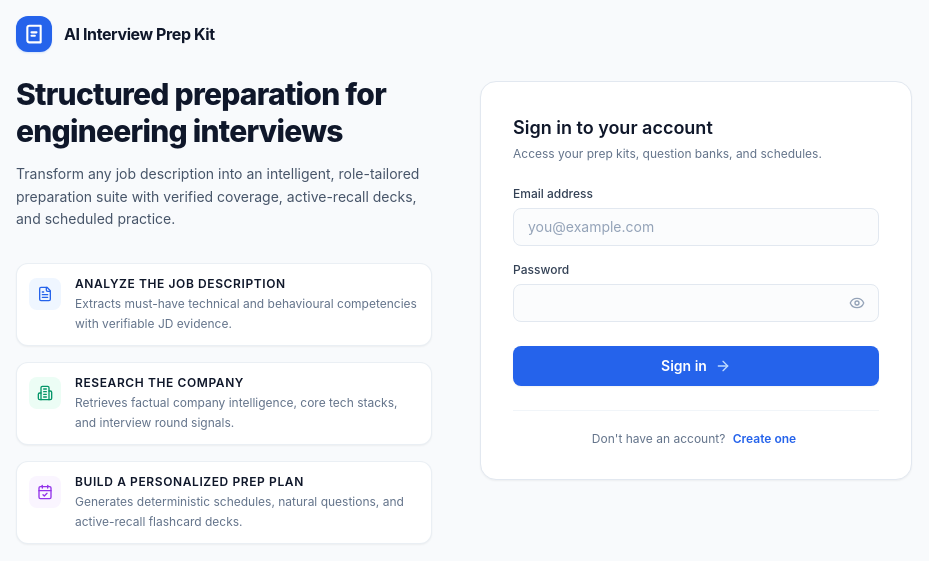
Test: Frontend: Authentication › 2. shows register form when switching modes
Click the button "Create one" at (764, 438), box [729,430,800,446]
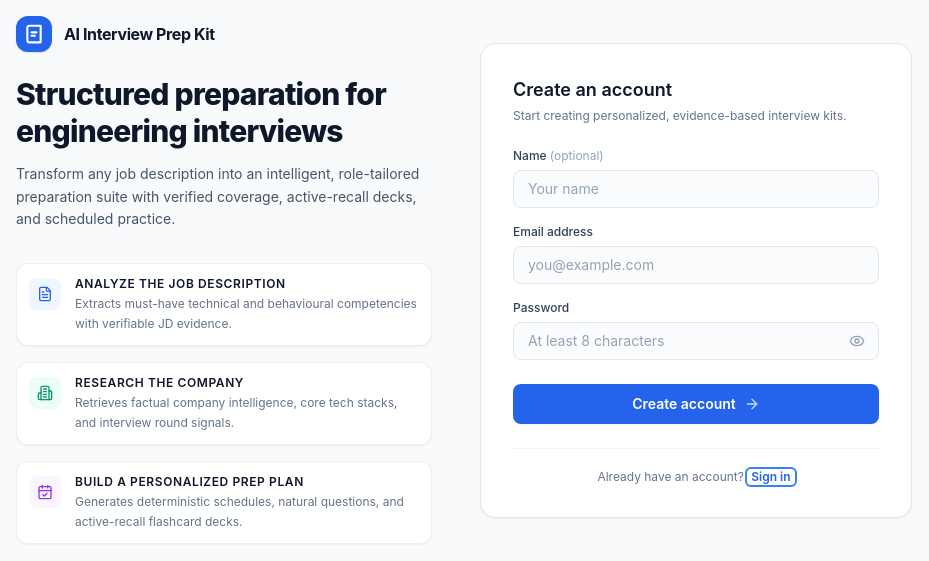
Now the button "Create account" is shown, box [513,384,879,424]
